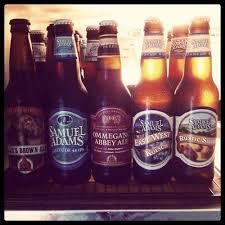beer: (6, 15, 219, 189)
